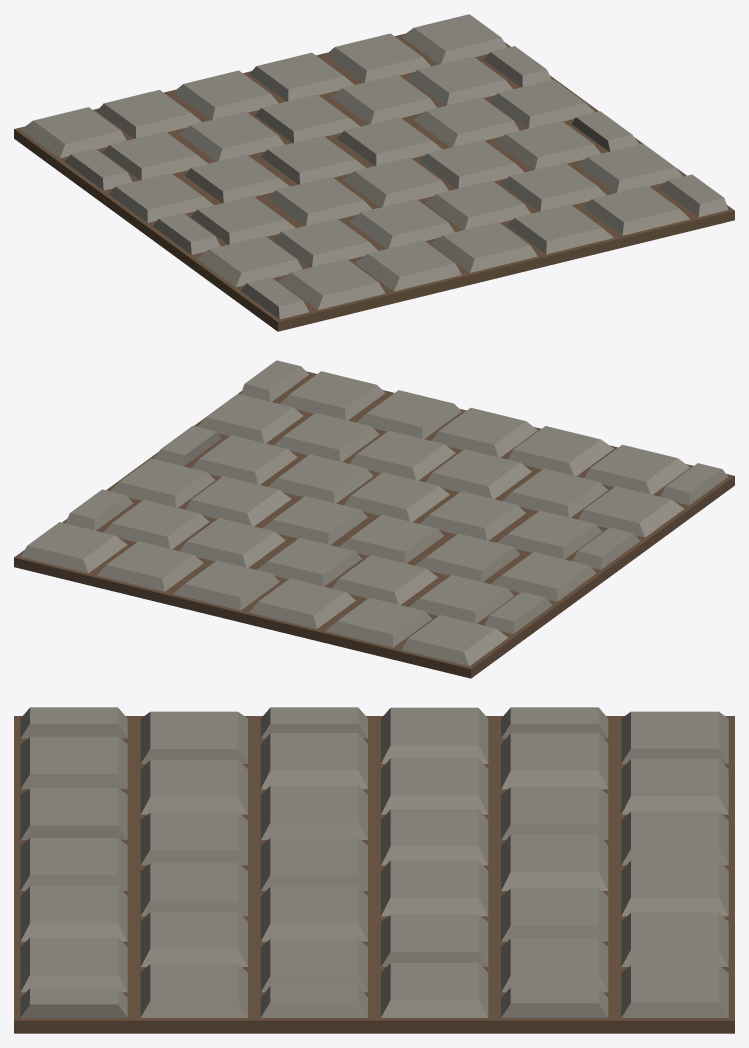
The model's file is road_cobble_tile_lod0.glb.
3 views of the same model, one above another, from view 1: azimuth 30°, elevation 25°; view 2: azimuth 150°, elevation 25°; view 3: azimuth 270°, elevation 25° (orthographic). The views are drawn at different scales.
Visible parts, largest first — view 1: road_cobble_tile; view 2: road_cobble_tile; view 3: road_cobble_tile.
Part boxes in pixels (x1=…): road_cobble_tile: x1=14, y1=14, x2=734, y2=331; road_cobble_tile: x1=14, y1=360, x2=734, y2=678; road_cobble_tile: x1=14, y1=707, x2=734, y2=1033.
Bounding box in the file's own units: 2 × 0.08 × 2.
